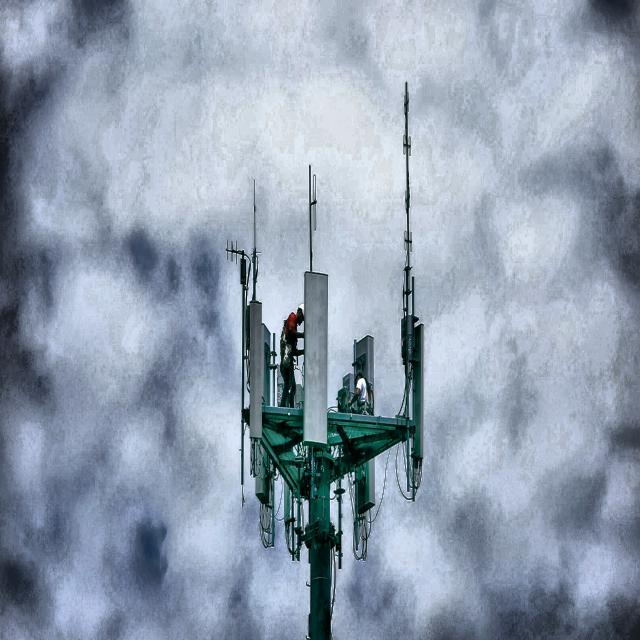antenna: (249, 302, 271, 503), (303, 271, 327, 443), (249, 301, 263, 437), (353, 335, 373, 413), (412, 324, 423, 464)
